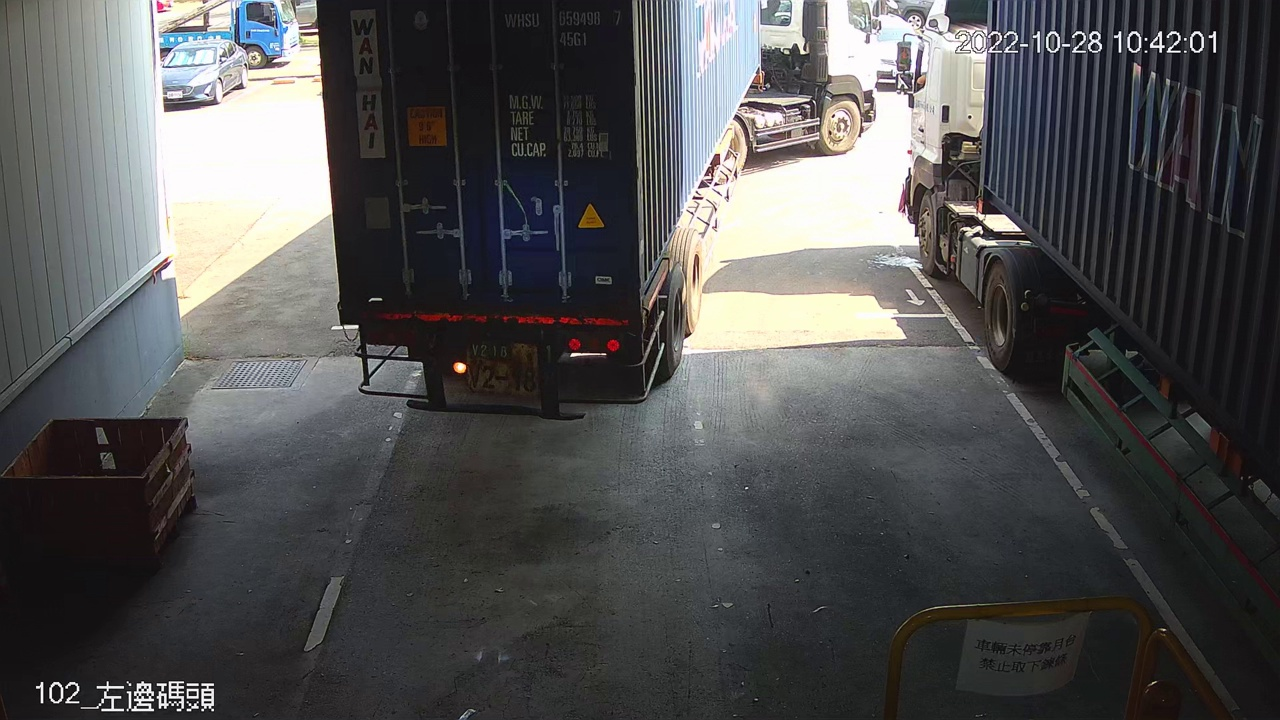container: (500, 5, 628, 50)
